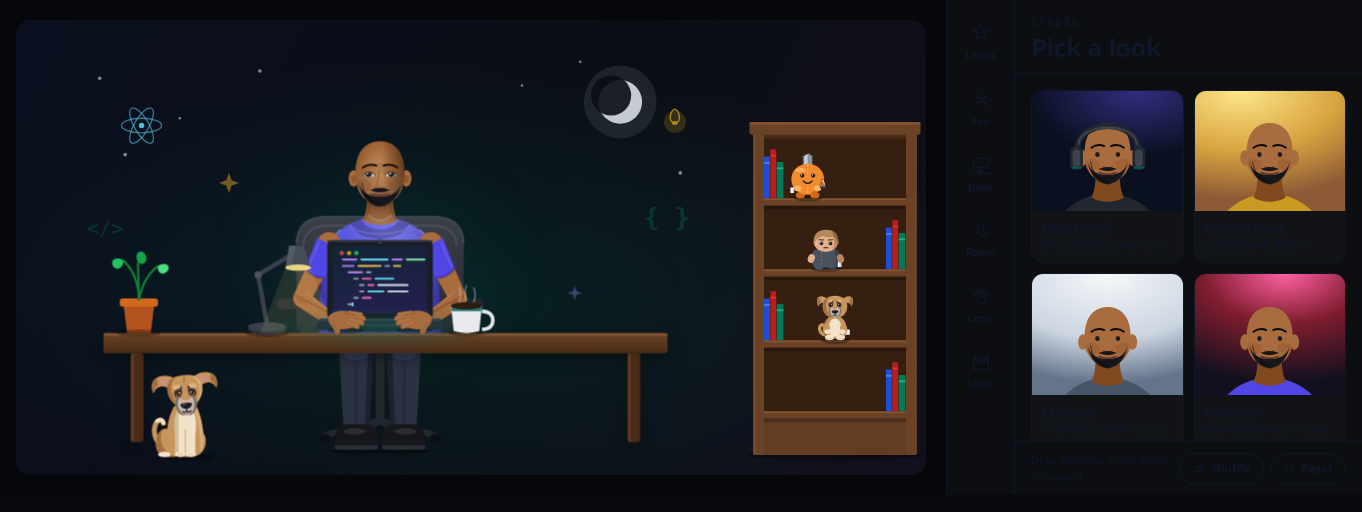
Test: StudentBuildingScene companions and plushies › lists companions with a count in the panel
Click the tab "Crew" at point(980, 306), box x1=953 y1=275 x2=1008 y2=337
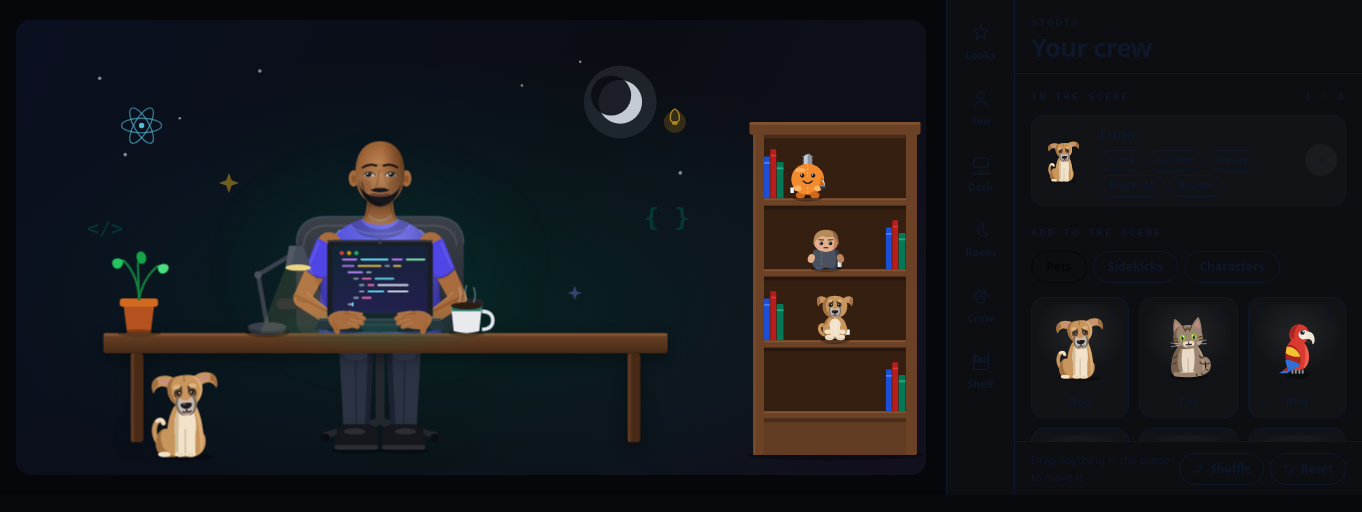
Result: the text "1 / 8" is shown at x1=1305 y1=90 x2=1346 y2=105
